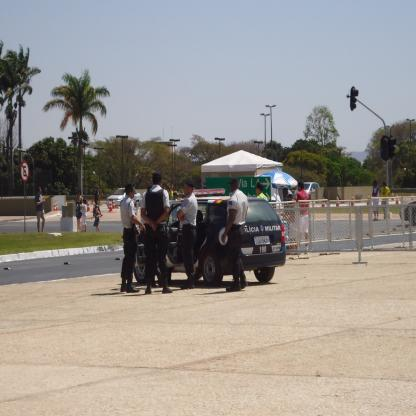Car: (167, 182, 286, 291), (107, 189, 143, 209), (294, 182, 322, 202), (400, 200, 416, 225)
